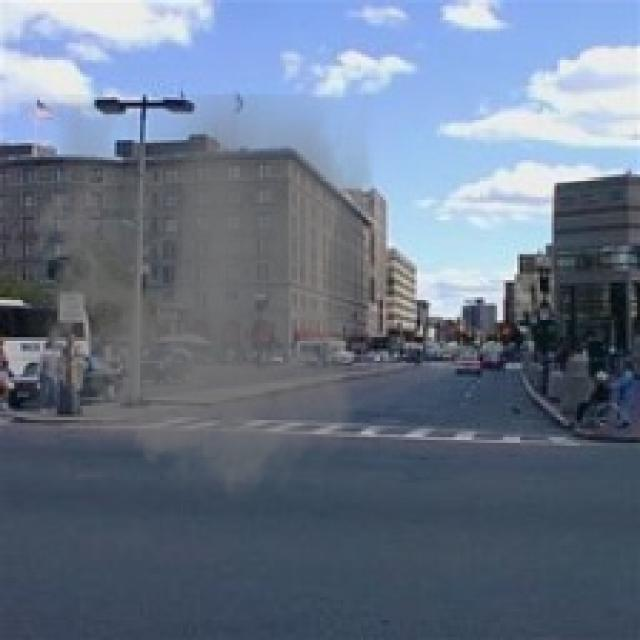smoke: (23, 94, 374, 514)
